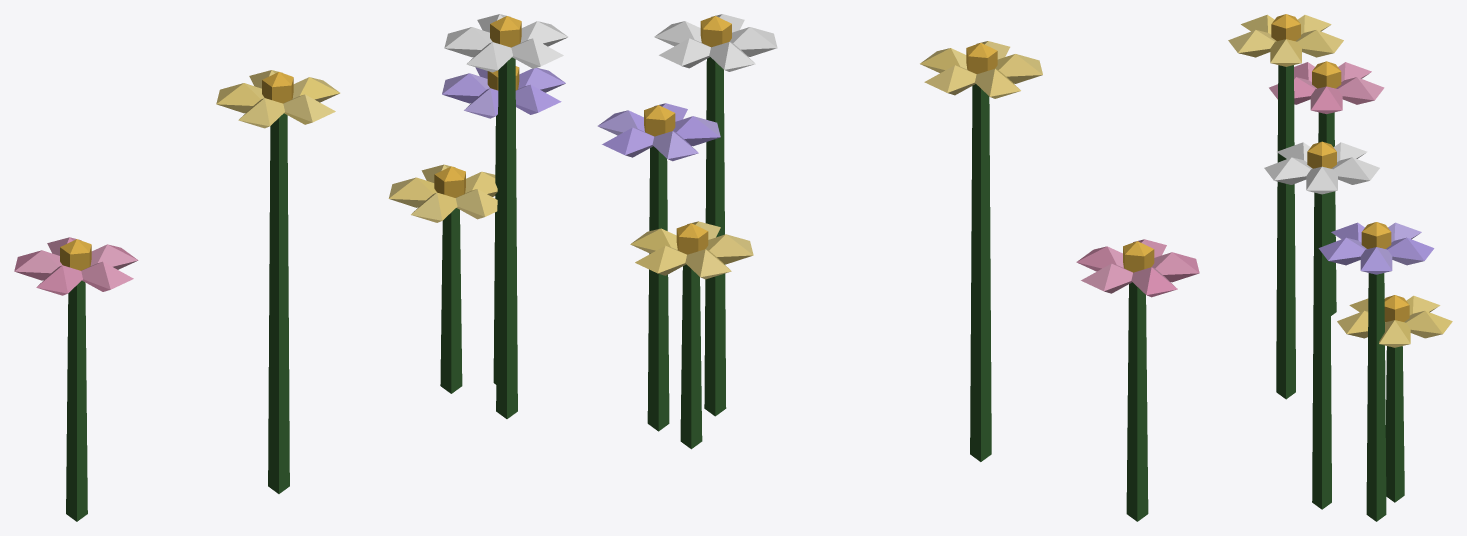
The model's file is Flowers_A.fbx.
3 renders of one model, left to right at view 1: azimuth 30°, elevation 25°; view 2: azimuth 150°, elevation 25°; view 3: azimuth 270°, elevation 25°, orthographic. The views are drawn at different scales.
Parts seen in each view (by area): view 1: Flowers_A; view 2: Flowers_A; view 3: Flowers_A.
Part boxes in pixels (left/top/right/bottom): Flowers_A: left=14, top=14, right=568, bottom=521; Flowers_A: left=597, top=14, right=1199, bottom=521; Flowers_A: left=1228, top=14, right=1452, bottom=521.
Bounding box in the file's own units: 0.4609 × 0.3283 × 0.1757.
